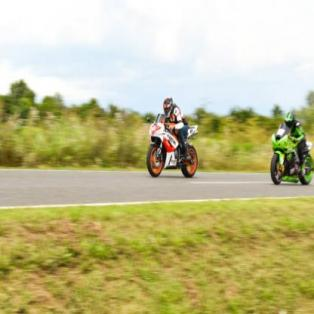Motocicleta: (146, 113, 203, 181), (266, 122, 314, 190)
